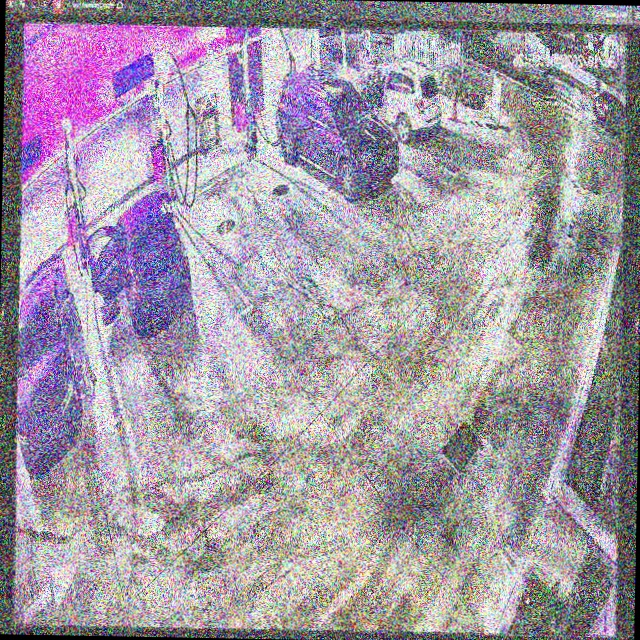Car: (274, 65, 399, 201), (87, 187, 194, 329)
